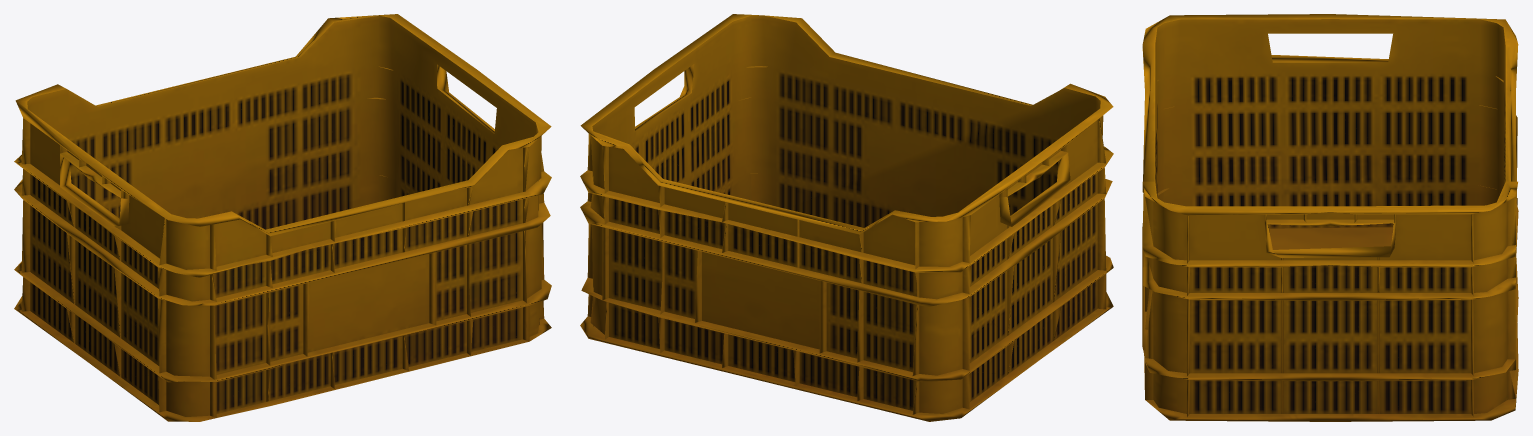
Rendered from plastic_crate_02.glb.
The picture shows the model from 3 angles, left to right: view 1: azimuth 30°, elevation 25°; view 2: azimuth 150°, elevation 25°; view 3: azimuth 270°, elevation 25°; orthographic projection. The views are drawn at different scales.
Visible parts, largest first — view 1: plastic_crate_02; view 2: plastic_crate_02; view 3: plastic_crate_02.
Part boxes in pixels (box(x1,y1,x2,y2)): plastic_crate_02: box(14, 14, 551, 421); plastic_crate_02: box(580, 14, 1113, 421); plastic_crate_02: box(1142, 14, 1518, 421).
Bounding box in the file's own units: 0.5055 × 0.2541 × 0.4055.
1 material, 1 textured.
